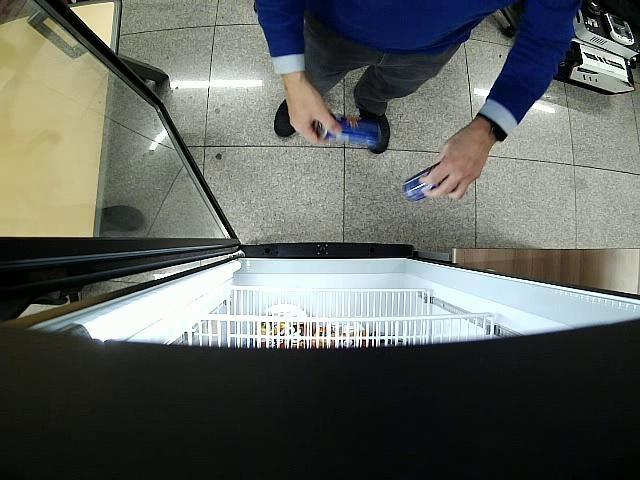16_hot6: (315, 114, 383, 152), (403, 160, 443, 202)
